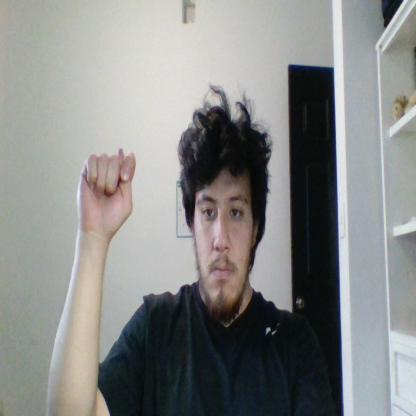T: (77, 147, 136, 231)
